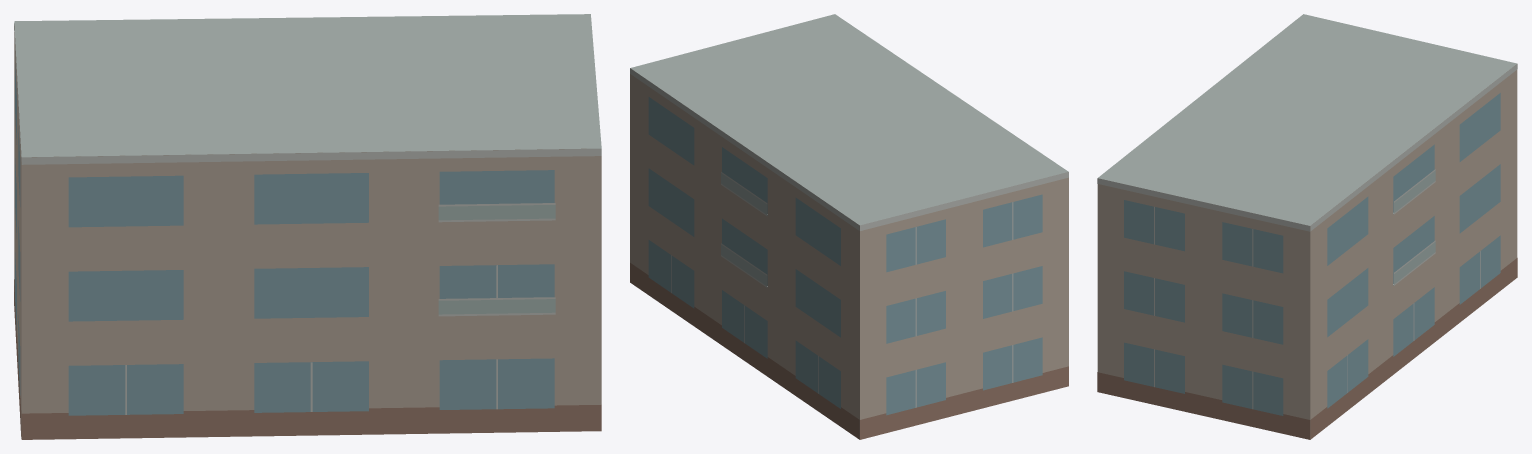
Rendered from survey-upis-32657321.glb.
3 renders of one model, left to right at view 1: azimuth 30°, elevation 25°; view 2: azimuth 150°, elevation 25°; view 3: azimuth 270°, elevation 25°, orthographic. The views are drawn at different scales.
Visible parts, largest first — view 1: survey-upis-32657321.tmp; view 2: survey-upis-32657321.tmp; view 3: survey-upis-32657321.tmp.
Boxes of the visible parts, left/top/right/bottom form: survey-upis-32657321.tmp: left=14, top=14, right=601, bottom=439; survey-upis-32657321.tmp: left=630, top=14, right=1068, bottom=439; survey-upis-32657321.tmp: left=1097, top=14, right=1517, bottom=439.
Size of the model in its own units: 19.35 by 9.1 by 16.2.
